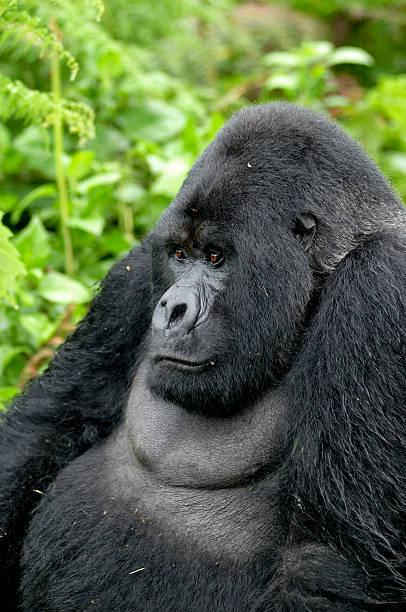goriile_montagne: (8, 105, 406, 601)
